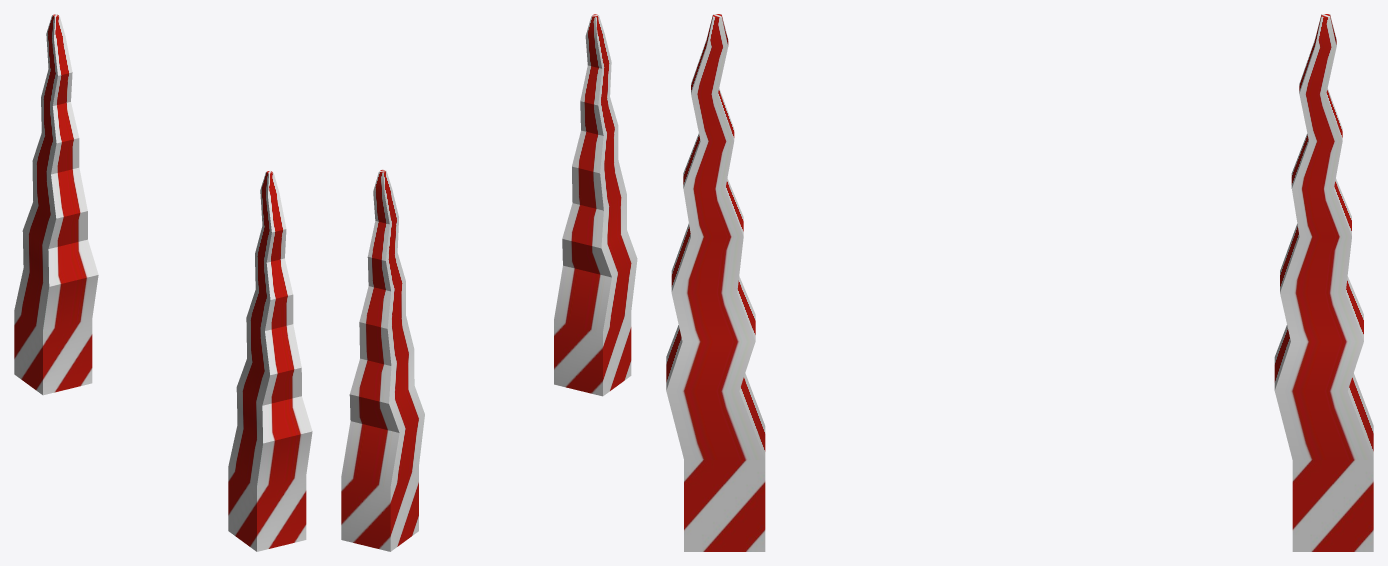
File: basearbol.obj
The picture shows the model from 3 angles, left to right: view 1: azimuth 30°, elevation 25°; view 2: azimuth 150°, elevation 25°; view 3: azimuth 270°, elevation 25°; orthographic projection. The views are drawn at different scales.
Visible parts, largest first — view 1: pCube1, pCube2; view 2: pCube1, pCube2; view 3: pCube1, pCube2.
Boxes of the visible parts, <box> form: pCube1: <box>228,170,312,551</box>; pCube2: <box>14,14,98,395</box>; pCube1: <box>554,14,637,396</box>; pCube2: <box>341,169,424,551</box>; pCube1: <box>666,14,765,551</box>; pCube2: <box>1274,14,1373,551</box>.
Bounding box in the file's own units: 80 × 565 × 698.
Materials: 1 (1 with a texture image).
